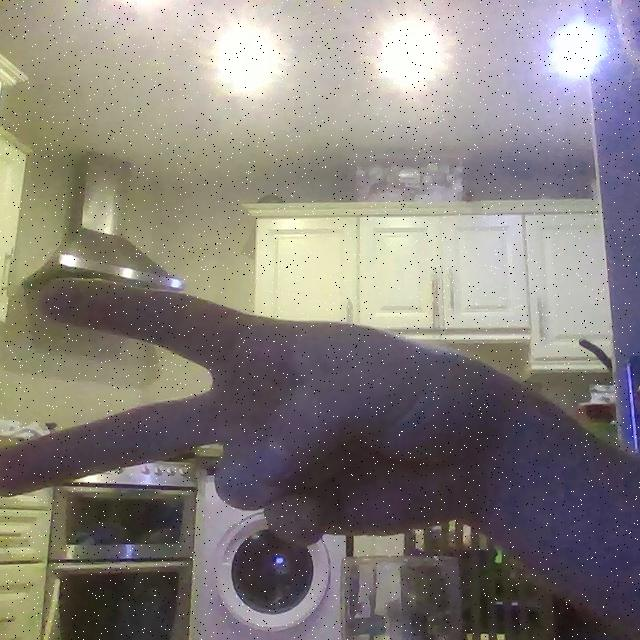scissors: (0, 279, 498, 557)
